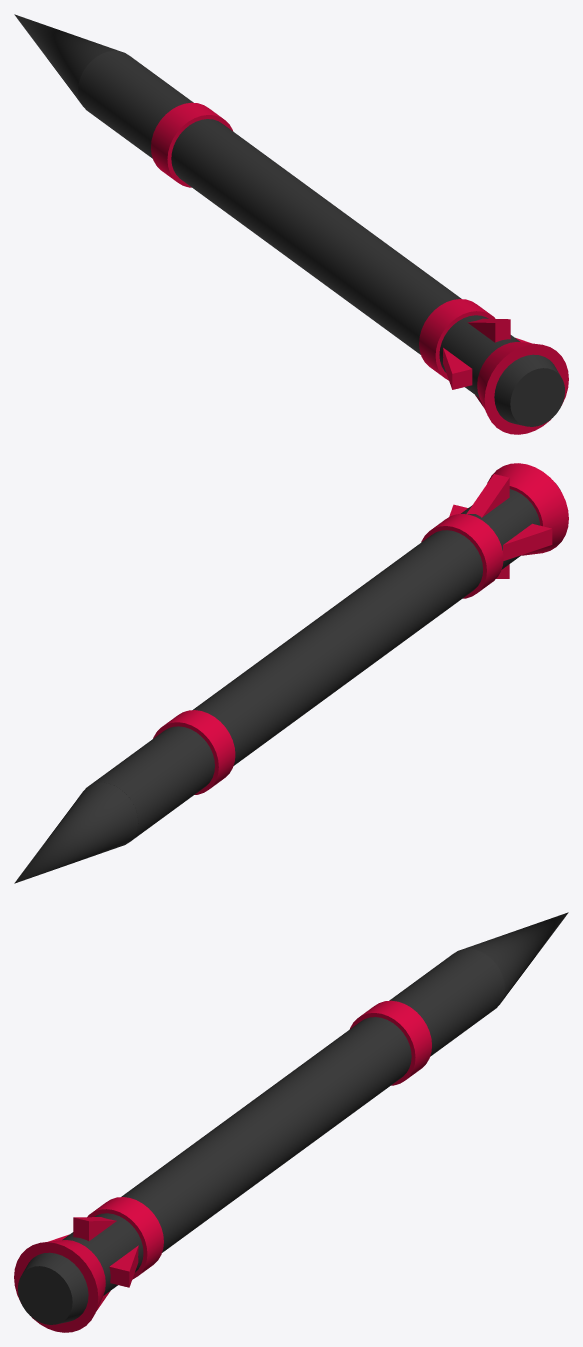
Rendered from missile_enemy.obj.
3 renders of one model, top to bottom at view 1: azimuth 30°, elevation 25°; view 2: azimuth 150°, elevation 25°; view 3: azimuth 330°, elevation 25°, orthographic.
Visible parts, largest first — view 1: 円柱.006; view 2: 円柱.006; view 3: 円柱.006.
Part boxes in pixels (bbox=[...]): 円柱.006: bbox=[14, 14, 568, 434]; 円柱.006: bbox=[14, 463, 568, 883]; 円柱.006: bbox=[14, 912, 568, 1332].
Bounding box in the file's own units: 0.2961 × 0.2897 × 2.72.
Materials: 2 (2 with a texture image).
